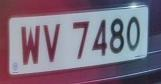0: (125, 13, 144, 57)
4: (90, 16, 110, 63)
7: (70, 18, 93, 64)
8: (108, 14, 126, 60)
V: (41, 19, 64, 68)
W: (18, 20, 43, 71)
